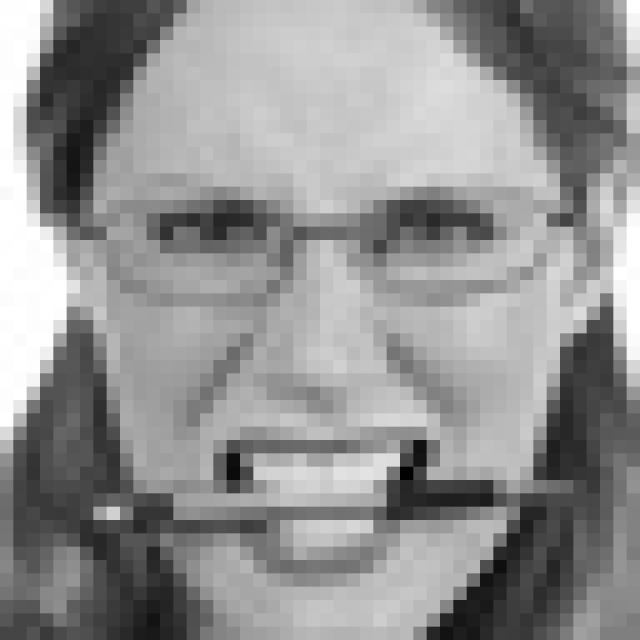angry: (100, 170, 526, 584)
